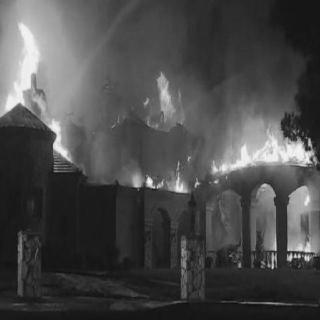Fire: (1, 16, 317, 206)
